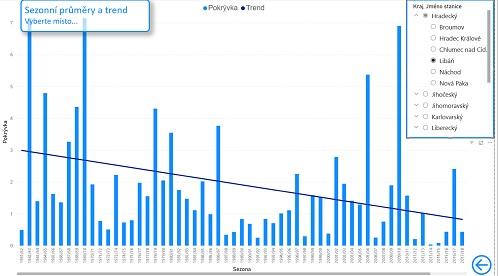

The page's visual inventory and layout, read from the dashboard file:
{"tool":"powerbi","page":{"name":"Trendy","canvas":[1280,720],"ordinal":4},"visuals":[{"type":"lineStackedColumnComboChart","fields":{"Y":["Výpočty.Pokrývka"],"Category":["datumy.Sezona"],"Y2":["Výpočty.Trend"]},"box":[0,0,1214.9,719.5],"z":0},{"type":"actionButton","box":[1214.8,655.6,65.2,64.2],"z":1000},{"type":"slicer","fields":{"Values":["Místa.Kraj","Místa.Jméno stanice"]},"box":[1052,0,228,360.2],"z":2000},{"type":"textbox","box":[52.7,0,335.3,85.3],"z":3000}]}

Visuals, with their boxes in screenshot pixels (x1, y1, x2, y2), scaled from the page's 1280x720 canvas onto the 498x276 screenshot:
lineStackedColumnComboChart - Výpočty.Pokrývka x datumy.Sezona: x1=0, y1=0, x2=473, y2=275
actionButton: x1=473, y1=251, x2=497, y2=275
slicer - Místa.Kraj x Místa.Jméno stanice: x1=409, y1=0, x2=497, y2=138
textbox: x1=21, y1=0, x2=151, y2=33
